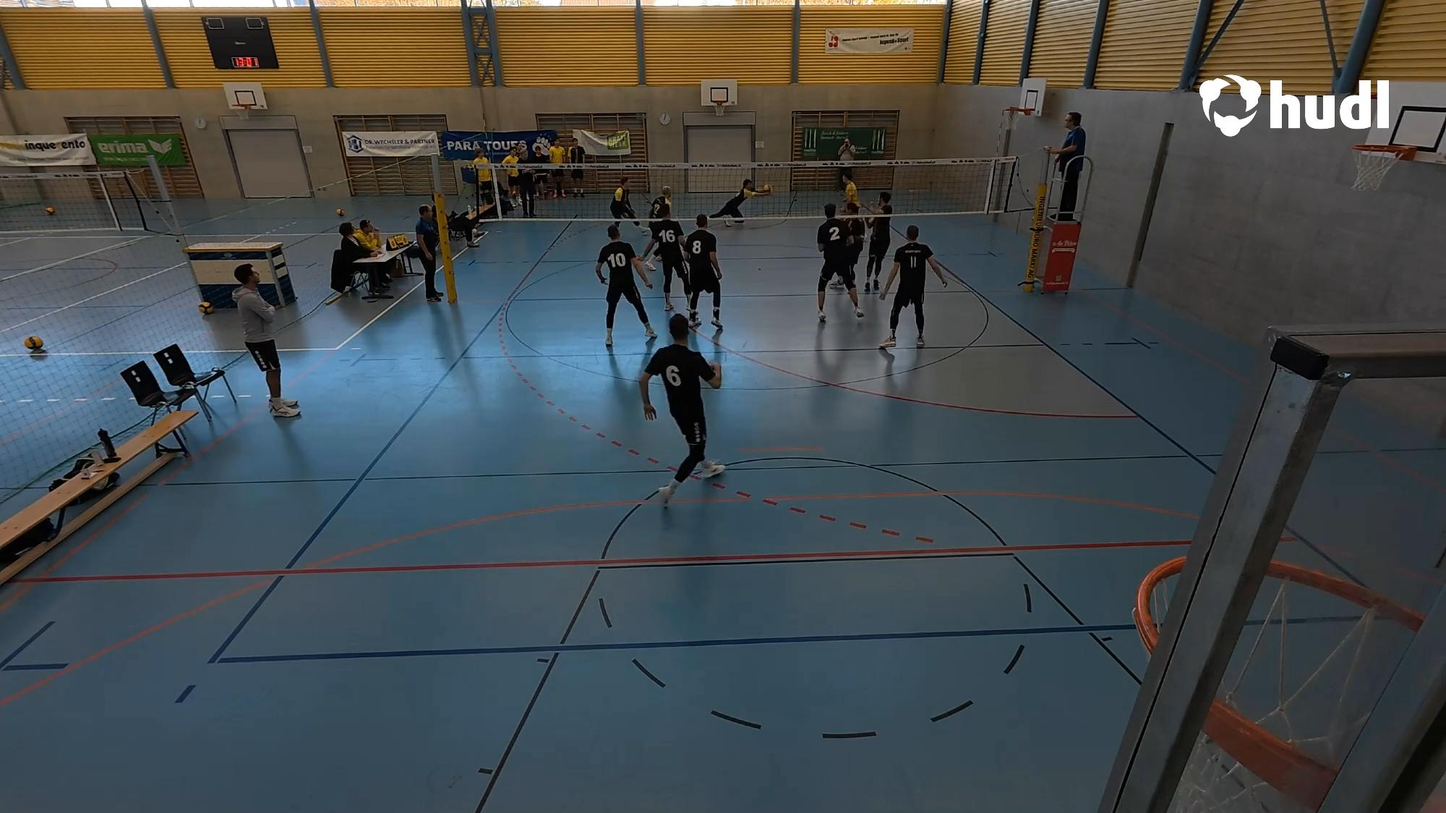Dig: (701, 174, 776, 231)
Player: (640, 314, 719, 482), (878, 226, 941, 354), (594, 227, 655, 353), (810, 209, 863, 324), (680, 221, 724, 355), (645, 204, 694, 319), (861, 188, 898, 297), (641, 184, 675, 281), (607, 178, 637, 244), (834, 169, 871, 210)
ball: (760, 183, 772, 196)
